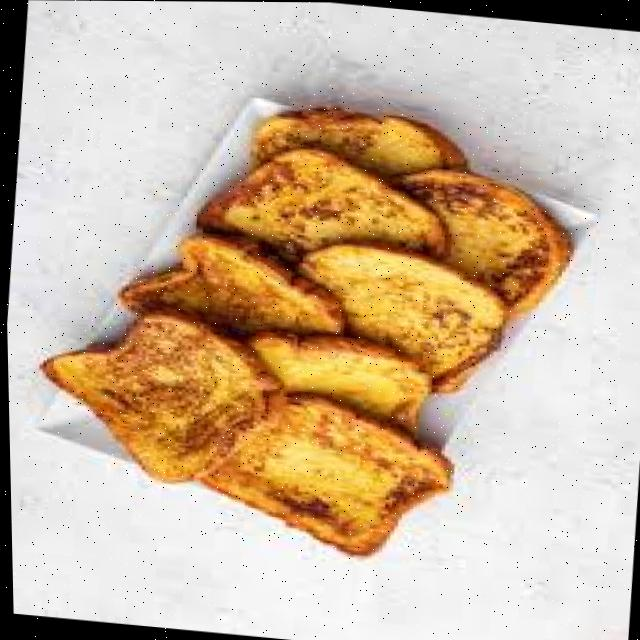Bread: (199, 394, 448, 555), (43, 314, 266, 482), (299, 246, 501, 392), (198, 148, 445, 256), (399, 168, 566, 316), (119, 239, 341, 333), (246, 331, 428, 429), (254, 108, 464, 176)
